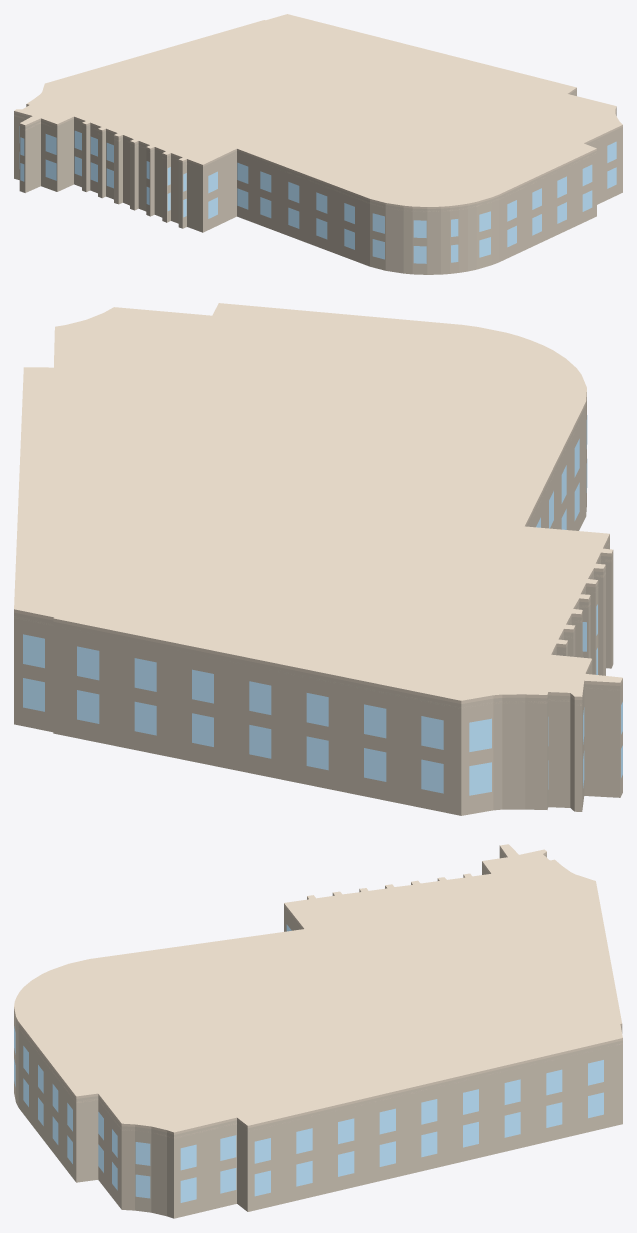
File: detail.glb
The picture shows the model from 3 angles, top to bottom: view 1: azimuth 30°, elevation 25°; view 2: azimuth 150°, elevation 25°; view 3: azimuth 270°, elevation 25°; orthographic projection. The views are drawn at different scales.
Parts seen in each view (by area): view 1: trim, stone, window; view 2: trim, stone, window; view 3: trim, stone, window.
Part boxes in pixels (bbox=[...]): trim: bbox=[14, 14, 622, 211]; stone: bbox=[14, 89, 622, 274]; window: bbox=[19, 126, 616, 263]; trim: bbox=[14, 303, 622, 708]; stone: bbox=[14, 395, 622, 815]; window: bbox=[23, 415, 622, 795]; trim: bbox=[14, 844, 622, 1138]; stone: bbox=[14, 848, 622, 1218]; window: bbox=[14, 924, 603, 1202].
Size of the model in its own units: 100 by 14 by 89.62.
